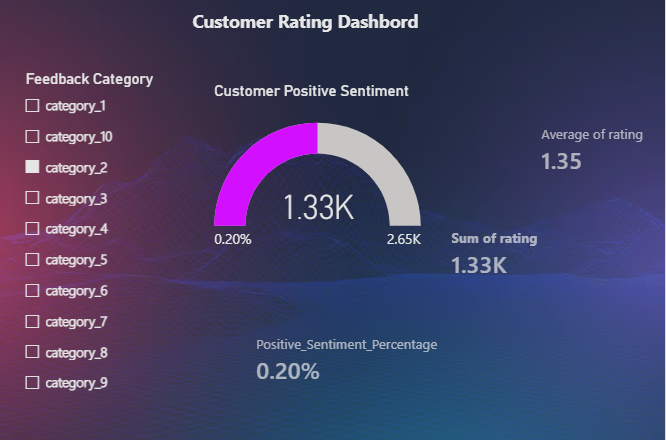

This screenshot's page, from the dashboard's own definition file:
{"tool":"powerbi","page":{"name":"Page 1","canvas":[800,600],"ordinal":0},"visuals":[{"type":"cardVisual","fields":{"Data":["Avg(new_schema user_feedback.rating)"]},"box":[597.6,61.2,165.6,218.4],"z":0},{"type":"cardVisual","fields":{"Data":["new_schema user_feedback.Positive_Sentiment_Percentage"]},"box":[597.6,343.2,165.6,126],"z":1000},{"type":"slicer","fields":{"Values":["new_schema user_feedback.feedback_category"]},"box":[24,118.8,183.6,411.6],"z":2000},{"type":"cardVisual","fields":{"Data":["Sum(new_schema user_feedback.rating)"]},"box":[597.6,214.8,165.6,128.4],"z":3000},{"type":"textbox","box":[116.4,45.6,502.8,31.2],"z":4000},{"type":"gauge","title":"Customer Positive Sentiment","fields":{"Y":["new_schema user_feedback.Positive_Sentiment_Percentage"]},"box":[242.4,118.8,279.6,247.2],"z":5000}]}

Visuals, with their boxes on the page's 800x600 design canvas (x1, y1, x2, y2). These are canvas units, not pixel positions in the 666x440 screenshot, which may show the page scaled, cropped or inside an application window:
cardVisual - Avg(new_schema user_feedback.rating): 598,61,763,280
cardVisual - new_schema user_feedback.Positive_Sentiment_Percentage: 598,343,763,469
slicer - new_schema user_feedback.feedback_category: 24,119,208,530
cardVisual - Sum(new_schema user_feedback.rating): 598,215,763,343
textbox: 116,46,619,77
"Customer Positive Sentiment" gauge: 242,119,522,366
